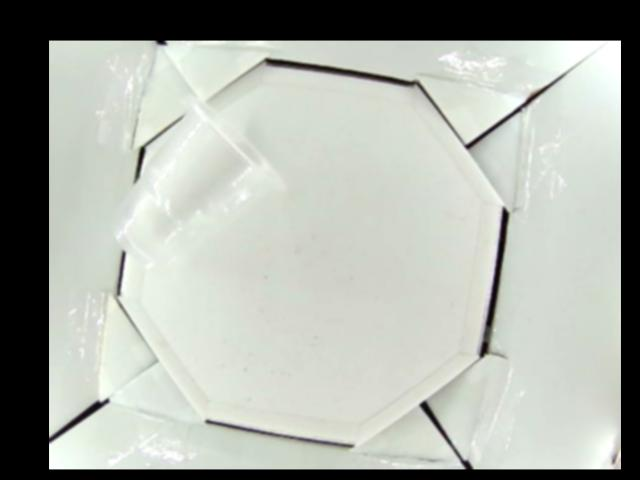Cup: (108, 95, 284, 268)
